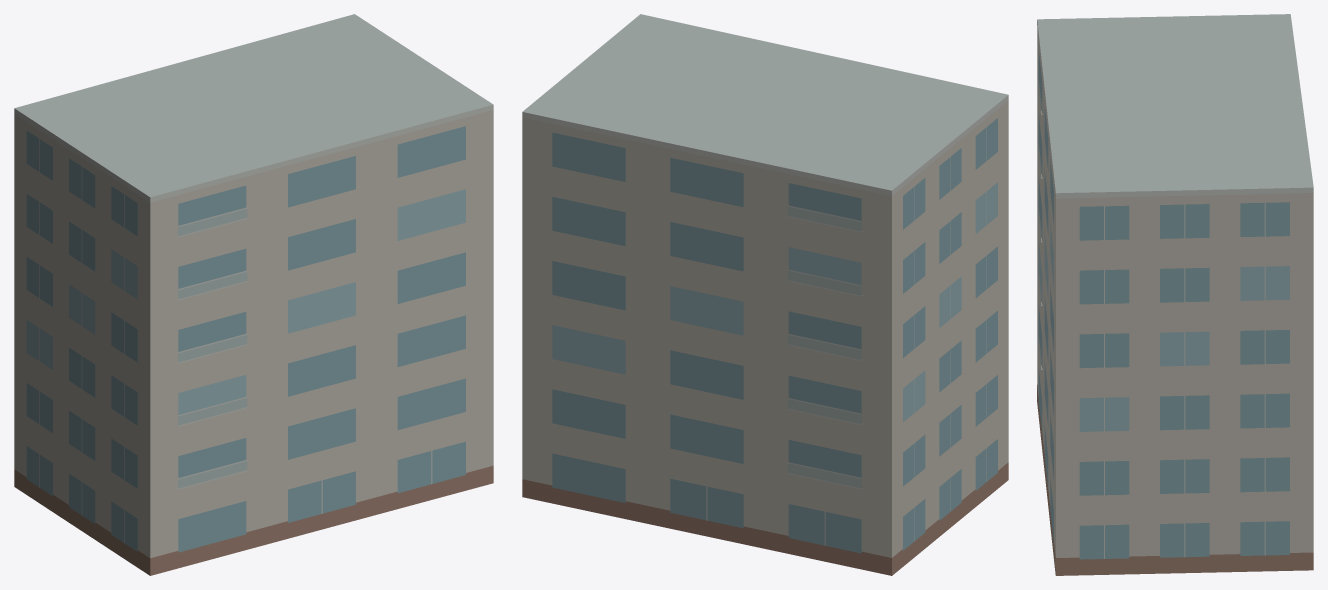
The model's file is survey-upis-32727692.glb.
3 renders of one model, left to right at view 1: azimuth 30°, elevation 25°; view 2: azimuth 150°, elevation 25°; view 3: azimuth 270°, elevation 25°, orthographic.
Parts seen in each view (by area): view 1: survey-upis-32727692.tmp; view 2: survey-upis-32727692.tmp; view 3: survey-upis-32727692.tmp.
Boxes of the visible parts, x1=… form: survey-upis-32727692.tmp: x1=14, y1=14, x2=493, y2=575; survey-upis-32727692.tmp: x1=522, y1=14, x2=1008, y2=575; survey-upis-32727692.tmp: x1=1037, y1=14, x2=1313, y2=575.
Bounding box in the file's own units: 17.48 × 17.4 × 11.41.
